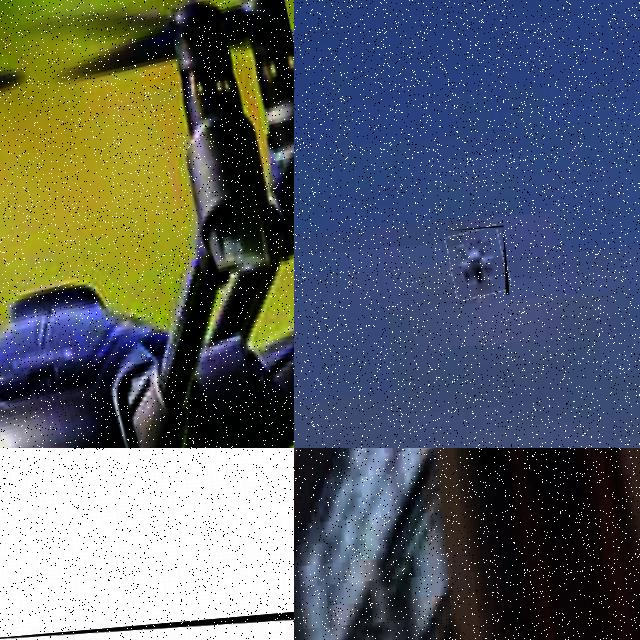drone: (0, 0, 294, 448), (0, 585, 294, 640), (446, 225, 509, 299)
